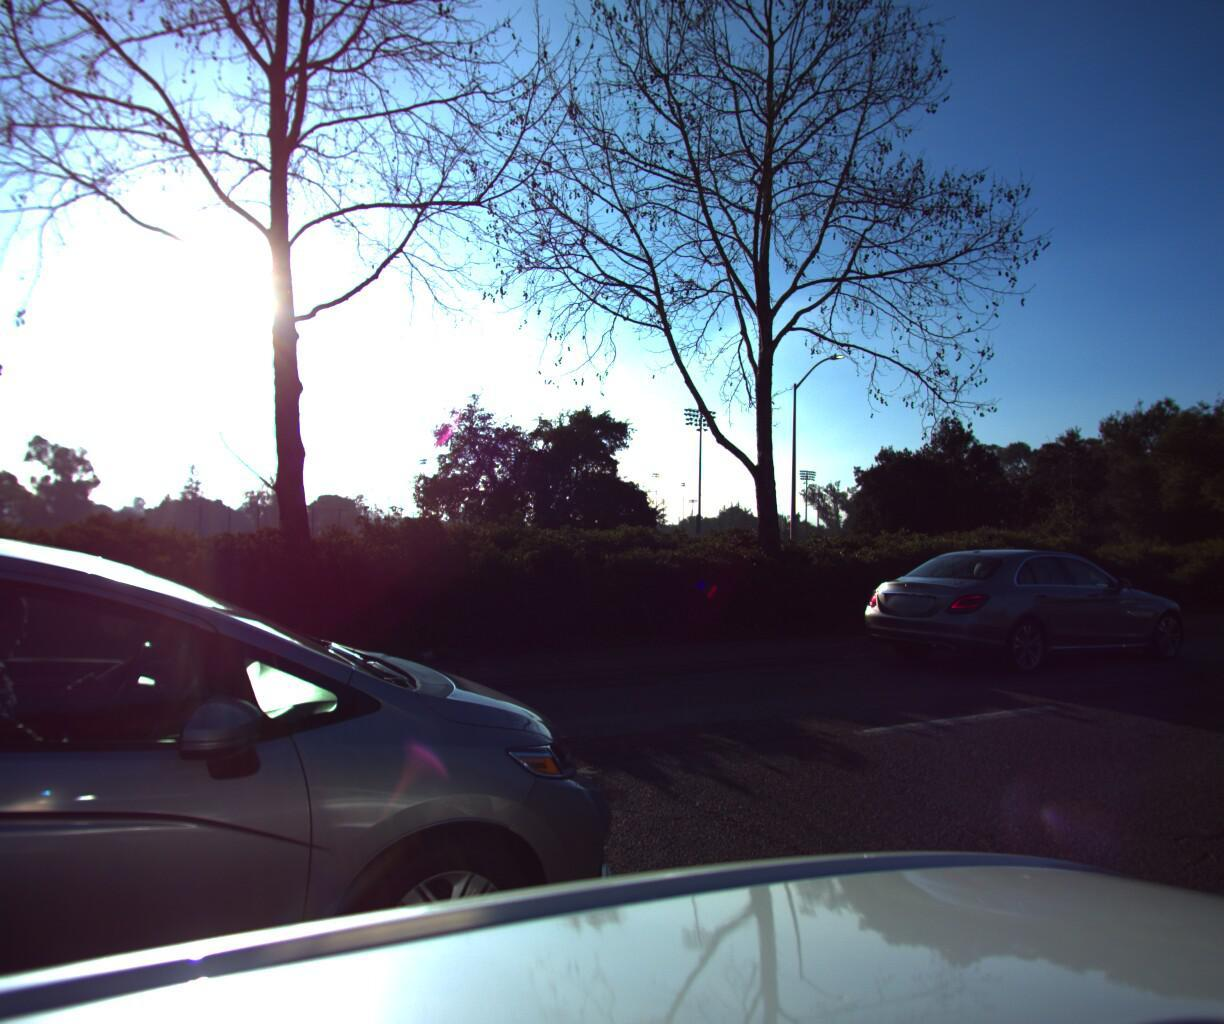car: (0, 510, 677, 1024), (846, 541, 1188, 677)
